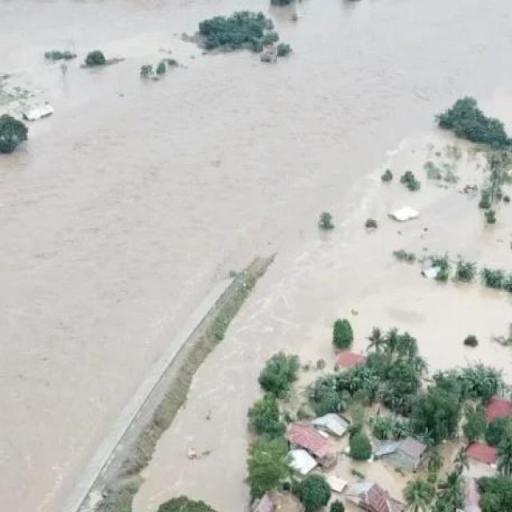flood: (0, 0, 512, 512)
house: (285, 414, 344, 472), (356, 484, 405, 511), (462, 440, 505, 468), (399, 436, 427, 471), (481, 395, 512, 422), (335, 350, 364, 371)
